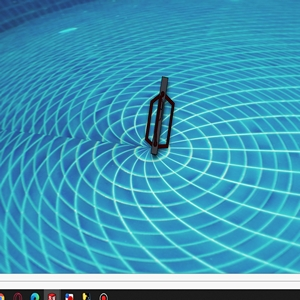submarine: (147, 75, 174, 158)
